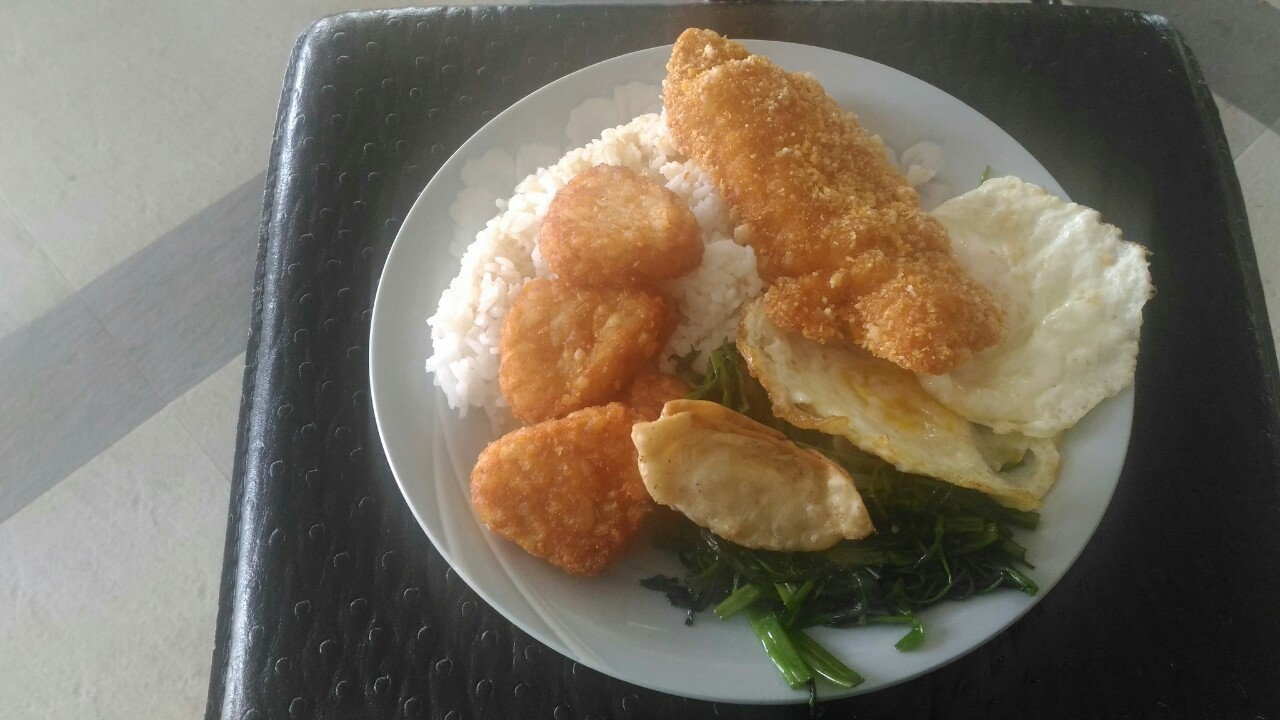fried_chicken: (663, 25, 987, 373)
fried_dumplings: (638, 396, 868, 558)
fried_eggs: (746, 189, 1127, 480)
rice: (429, 226, 519, 404)
triangle_hash_brown: (465, 164, 700, 573)
water_spinach: (666, 499, 1016, 622)
